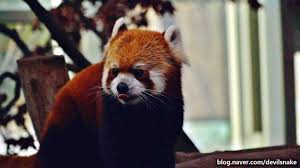redPanda: (37, 22, 191, 168)
